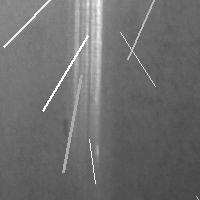scratches: (70, 1, 102, 156), (37, 31, 92, 116), (0, 0, 71, 51), (58, 70, 86, 177), (115, 27, 160, 91), (123, 0, 167, 64), (84, 134, 100, 188), (191, 191, 200, 200)
